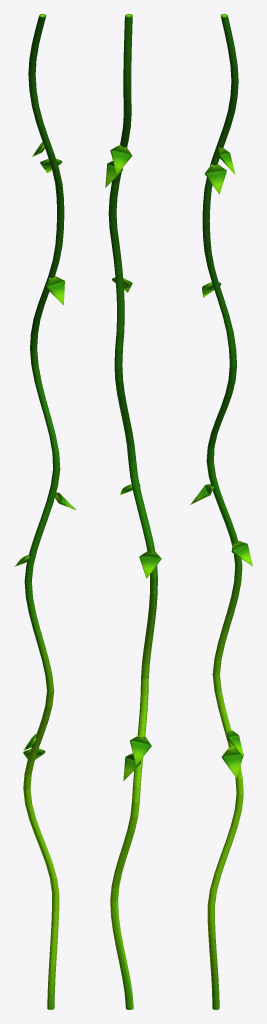
File: LongVines.fbx
The picture shows the model from 3 angles, left to right: view 1: azimuth 90°, elevation 25°; view 2: azimuth 210°, elevation 25°; view 3: azimuth 270°, elevation 25°; orthographic projection.
Visible parts, largest first — view 1: Cylinder; view 2: Cylinder; view 3: Cylinder.
Boxes of the visible parts, box(x1,y1,x2,y2) form: Cylinder: box(14, 14, 75, 1009); Cylinder: box(105, 14, 161, 1009); Cylinder: box(190, 14, 252, 1009).
Bounding box in the file's own units: 0.411 × 0.4996 × 8.71.
